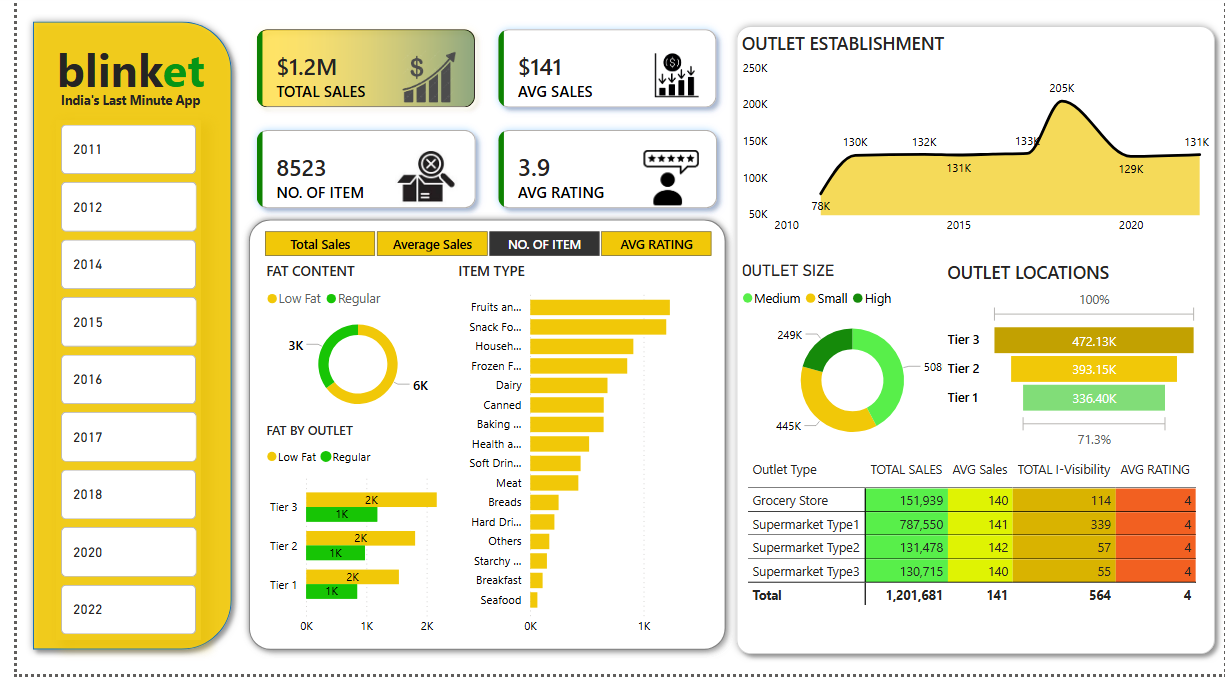

The dashboard page shown, as its layout file describes it:
{"tool":"powerbi","page":{"name":"Page 1","canvas":[1280,720],"ordinal":0},"visuals":[{"type":"shape","box":[7.6,18.9,228.7,684.1],"z":0},{"type":"textbox","box":[24.6,39.7,198.4,75.6],"z":1000},{"type":"cardVisual","fields":{"Data":["BlinkIT Grocery Data.Total Sales","BlinkIT Grocery Data.Average Sales","BlinkIT Grocery Data.Total ItemVisibility1","BlinkIT Grocery Data.Total ItemVisibility"]},"box":[236.2,18.9,523.5,224.9],"z":2000},{"type":"textbox","box":[41.6,96.4,181.4,35.9],"z":3000},{"type":"shape","box":[236.2,228.7,523.5,474.3],"z":4000},{"type":"slicer","fields":{"Values":["Parameter.Parameter"]},"box":[236.2,243.8,523.5,37.8],"z":5000},{"type":"donutChart","title":"FAT CONTENT","fields":{"Y":["BlinkIT Grocery Data.NO. OF ITEM"],"Category":["BlinkIT Grocery Data.Item Fat Content"]},"box":[258.9,281.6,204.1,170.1],"z":6000},{"type":"clusteredBarChart","title":"FAT BY OUTLET","fields":{"Y":["BlinkIT Grocery Data.NO. OF ITEM"],"Category":["BlinkIT Grocery Data.Outlet Location Type"],"Series":["BlinkIT Grocery Data.Item Fat Content"]},"box":[259.3,451.7,222.7,235.4],"z":7000},{"type":"clusteredBarChart","title":"ITEM TYPE","fields":{"Y":["BlinkIT Grocery Data.NO. OF ITEM"],"Category":["BlinkIT Grocery Data.Item Type"]},"box":[462.9,281.5,273.6,405.6],"z":8000},{"type":"shape","box":[754,24.6,525.4,684.1],"z":9000},{"type":"areaChart","title":"OUTLET ESTABLISHMENT","fields":{"Category":["BlinkIT Grocery Data.Outlet Establishment Year"],"Y":["Sum(BlinkIT Grocery Data.Sales)"]},"box":[763.5,38.2,509,224.3],"z":10000},{"type":"donutChart","title":"OUTLET SIZE","fields":{"Y":["Sum(BlinkIT Grocery Data.Sales)"],"Category":["BlinkIT Grocery Data.Outlet Size"]},"box":[763.5,281.5,245,205.2],"z":11000},{"type":"funnel","title":"OUTLET LOCATIONS","fields":{"Y":["Sum(BlinkIT Grocery Data.Sales)"],"Category":["BlinkIT Grocery Data.Outlet Location Type"]},"box":[981.4,281.5,276.8,205.2],"z":12000},{"type":"pivotTable","fields":{"Rows":["BlinkIT Grocery Data.Outlet Type"],"Values":["Sum(BlinkIT Grocery Data.Sales)1","Avg(BlinkIT Grocery Data.Sales)","Sum(BlinkIT Grocery Data.Item Visibility)","Avg(BlinkIT Grocery Data.Rating)"]},"box":[769.9,485.1,494.7,202],"z":13000},{"type":"advancedSlicerVisual","fields":{"Values":["BlinkIT Grocery Data.Outlet Establishment Year"]},"box":[41.4,132,154.3,551.9],"z":14000}]}

Visuals, with their boxes in screenshot pixels (x1, y1, x2, y2), scaled from the page's 1280x720 canvas onto the 1225x680 screenshot:
shape: BBox(7, 18, 226, 664)
textbox: BBox(24, 37, 213, 109)
cardVisual - BlinkIT Grocery Data.Total Sales x BlinkIT Grocery Data.Average Sales: BBox(226, 18, 727, 230)
textbox: BBox(40, 91, 213, 125)
shape: BBox(226, 216, 727, 664)
slicer - Parameter.Parameter: BBox(226, 230, 727, 266)
"FAT CONTENT" donutChart: BBox(248, 266, 443, 427)
"FAT BY OUTLET" clusteredBarChart: BBox(248, 427, 461, 649)
"ITEM TYPE" clusteredBarChart: BBox(443, 266, 705, 649)
shape: BBox(722, 23, 1224, 669)
"OUTLET ESTABLISHMENT" areaChart: BBox(731, 36, 1218, 248)
"OUTLET SIZE" donutChart: BBox(731, 266, 965, 460)
"OUTLET LOCATIONS" funnel: BBox(939, 266, 1204, 460)
pivotTable - BlinkIT Grocery Data.Outlet Type x Sum(BlinkIT Grocery Data.Sales)1: BBox(737, 458, 1210, 649)
advancedSlicerVisual - BlinkIT Grocery Data.Outlet Establishment Year: BBox(40, 125, 187, 646)
